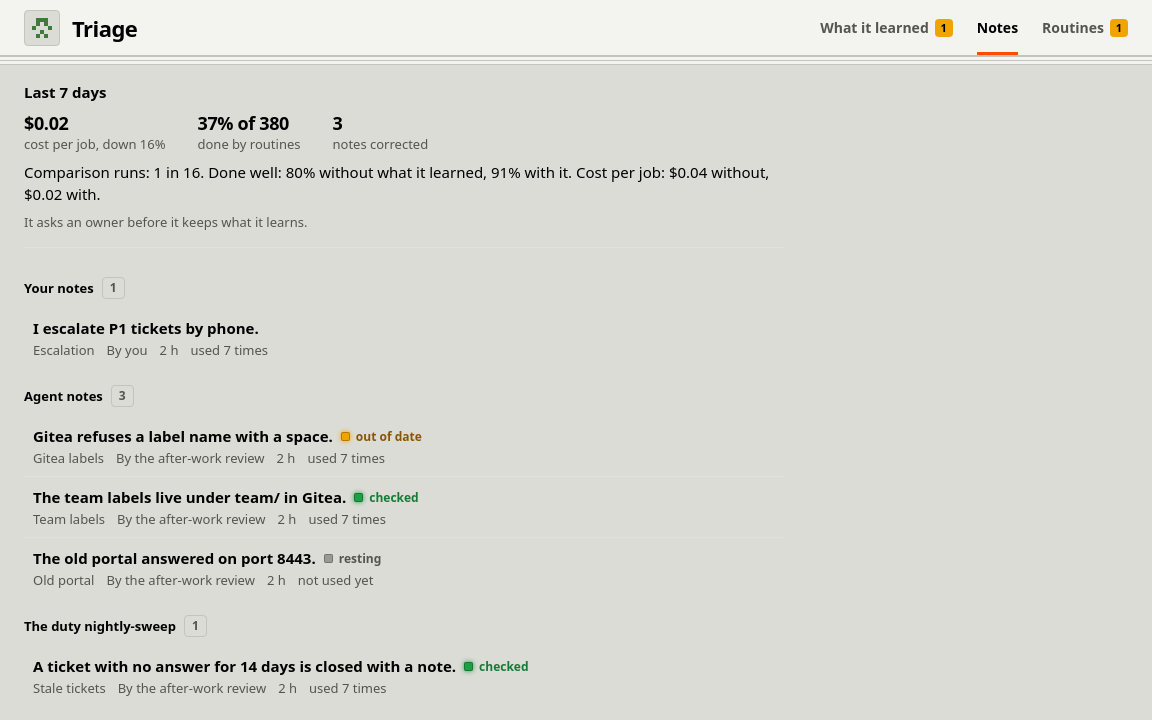
Scenario: Notes › offers Edit to an operator on their own notes only, as the server lets them change those
This screenshot has width=1152, height=720.
Click the button with class "kh-note-head" that starts with "I escalate P1 tickets by phone." at x=146, y=328, box [24, 308, 784, 368]
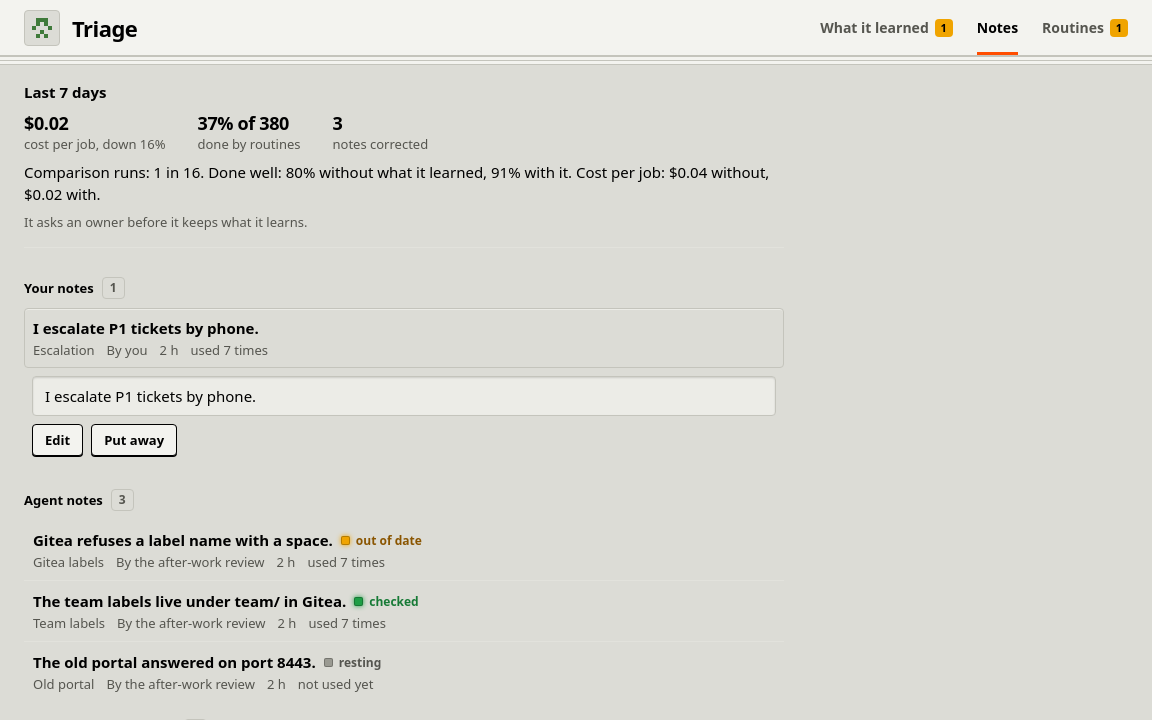
Click the button with class "kh-note-head" that starts with "Gitea refuses a label name with a space." at x=404, y=550, box [24, 520, 784, 580]
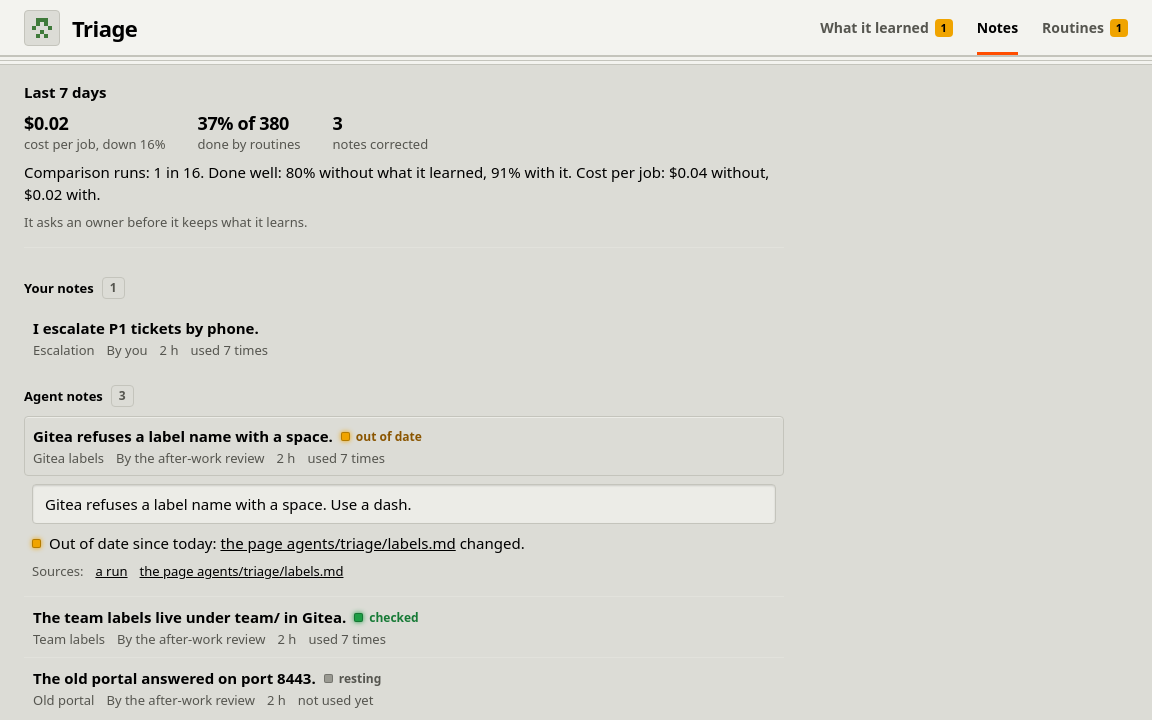
Now the button "Edit" is gone
